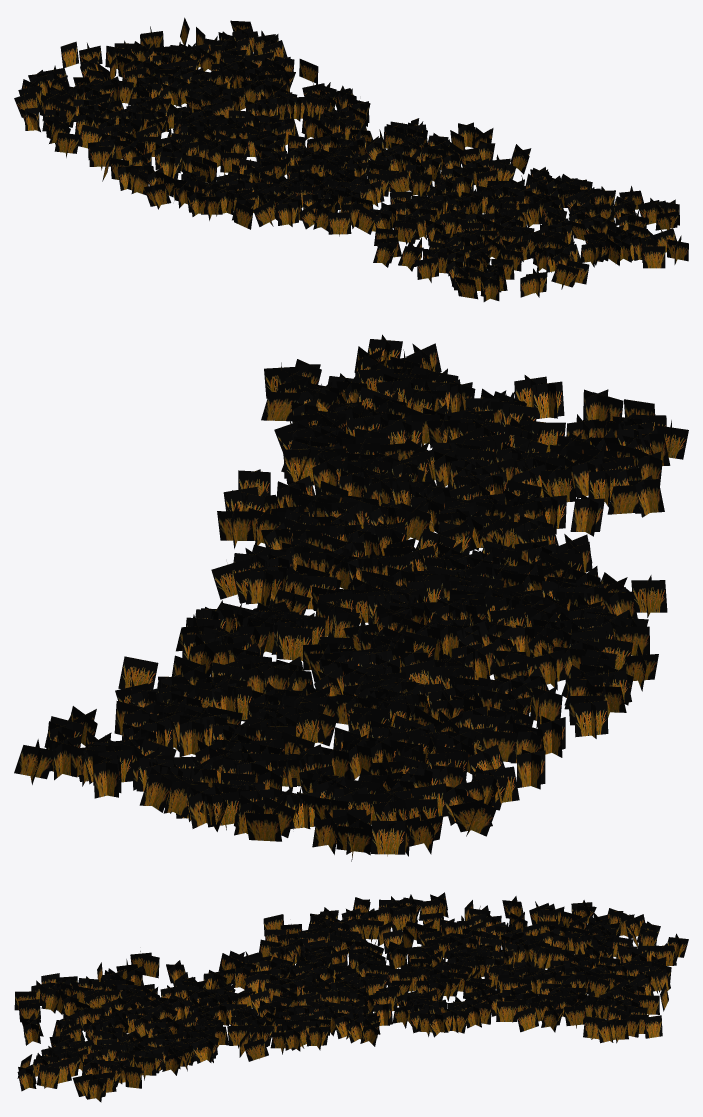
Rendered from Grass Small.obj.
3 views of the same model, one above another, from view 1: azimuth 30°, elevation 25°; view 2: azimuth 150°, elevation 25°; view 3: azimuth 270°, elevation 25° (orthographic). The views are drawn at different scales.
Visible parts, largest first — view 1: Grass_Small_Plane.007; view 2: Grass_Small_Plane.007; view 3: Grass_Small_Plane.007.
Part boxes in pixels (bbox=[...]): Grass_Small_Plane.007: bbox=[14, 17, 688, 301]; Grass_Small_Plane.007: bbox=[14, 334, 688, 861]; Grass_Small_Plane.007: bbox=[14, 892, 688, 1102].
Size of the model in its own units: 18.65 by 1.9 by 28.56.
1 material, 1 textured.
